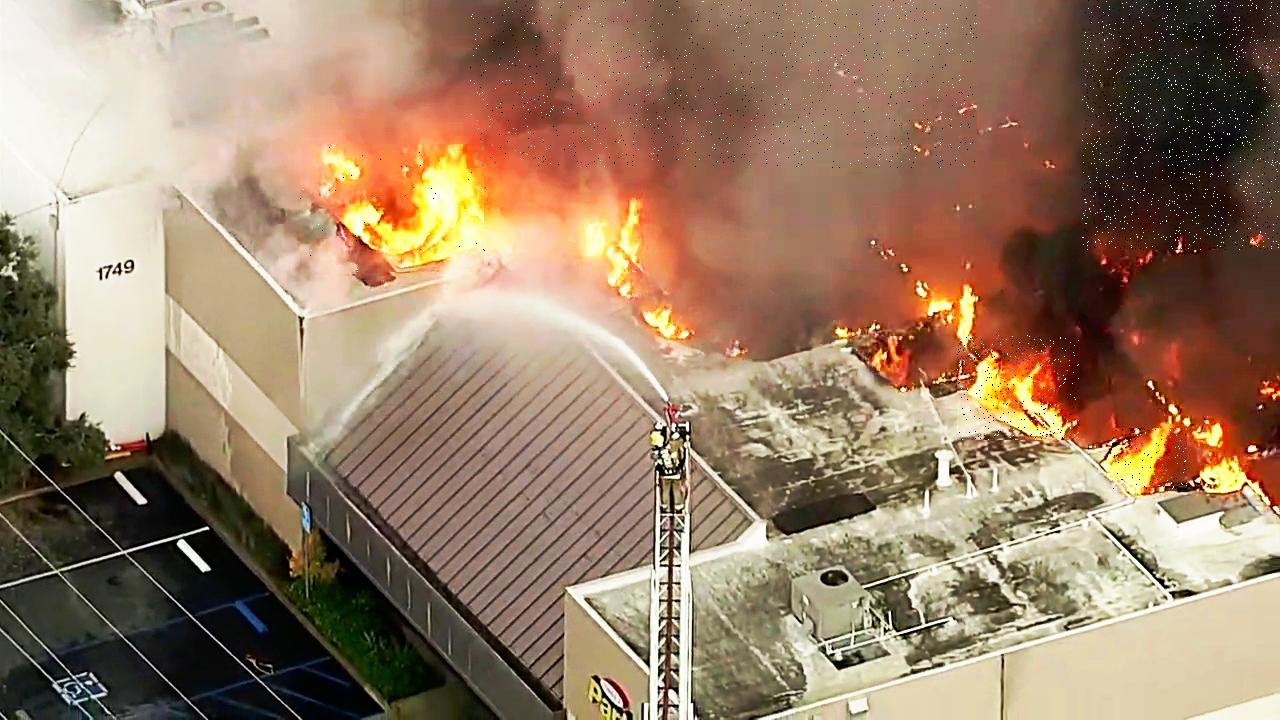fire: (301, 144, 487, 276), (957, 335, 1079, 440), (1112, 429, 1187, 491)
smoke: (470, 0, 977, 168), (1082, 0, 1280, 250)
